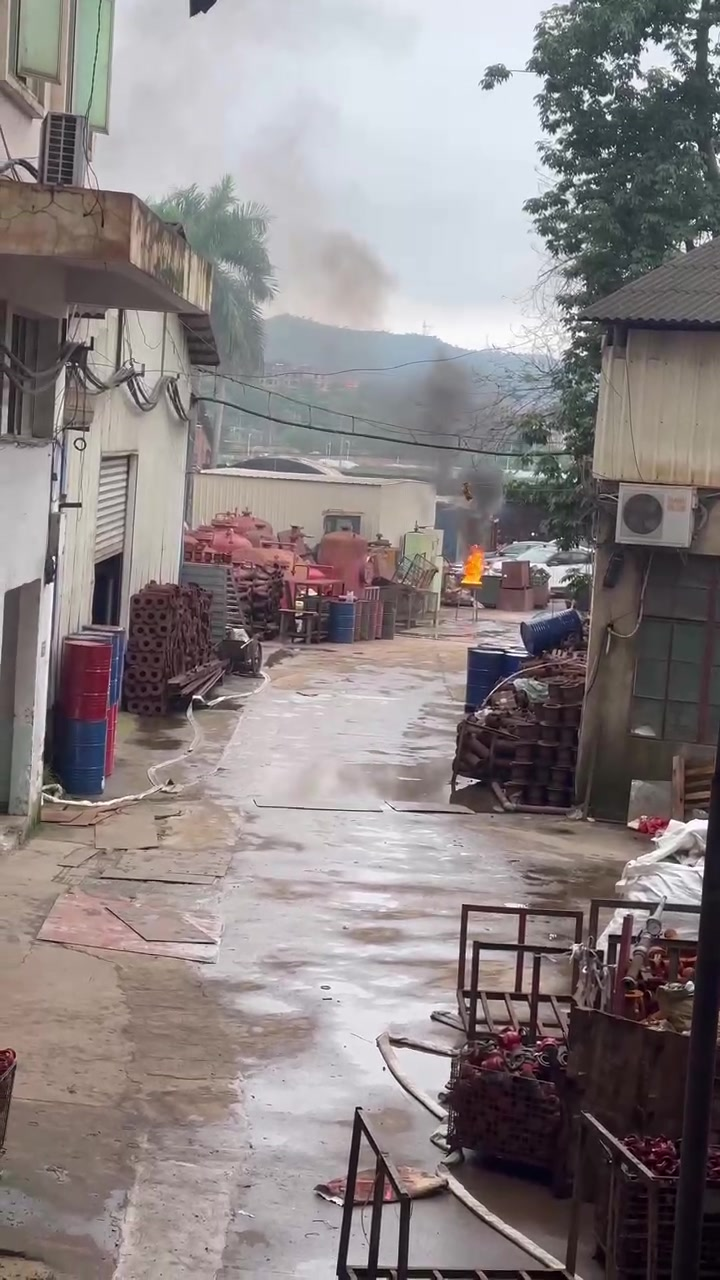fire: (461, 544, 483, 584)
